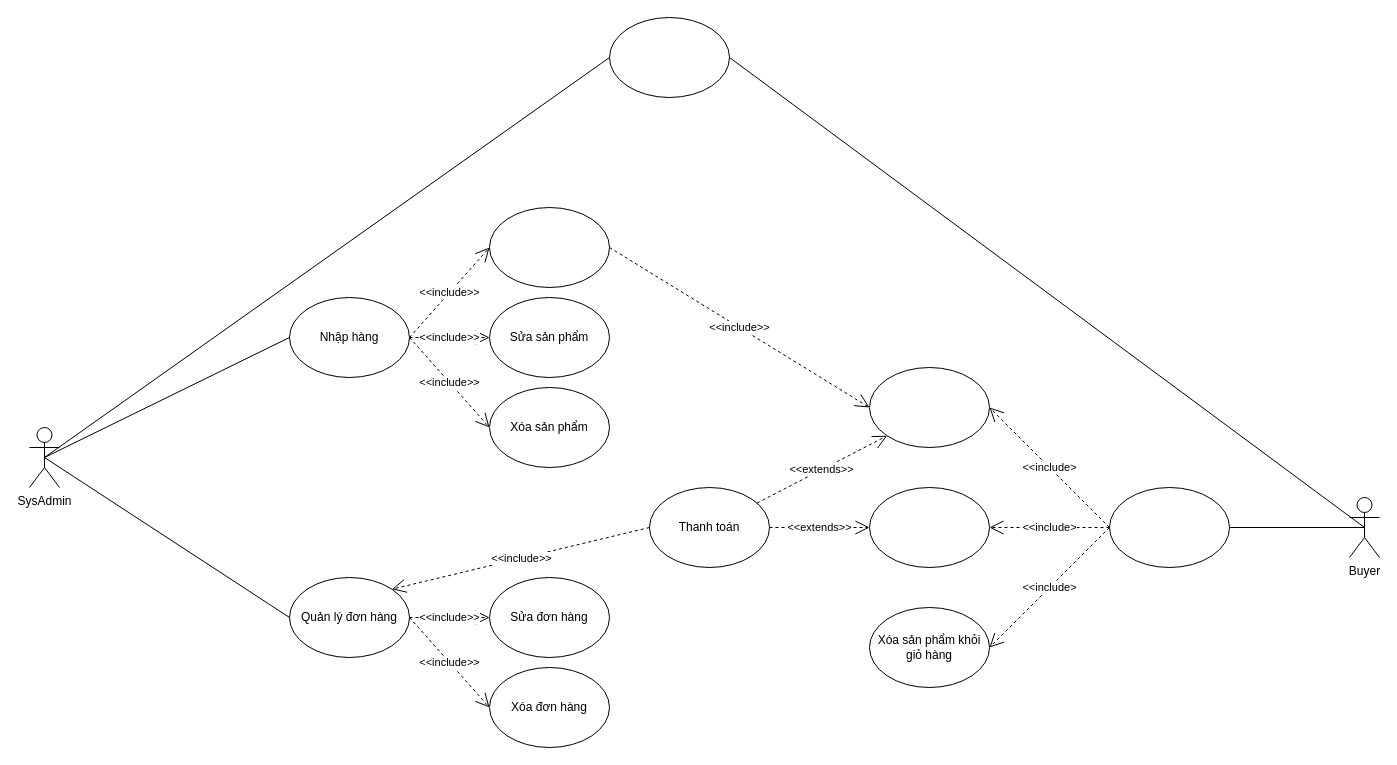
This 1397x765 diagram has some shape labels left out. Each missing label, with the centre of its shape:
"Cập nhật số lượng sản phẩm trong giỏ hàng" goes at (x=929, y=527).
"Mua hàng" goes at (x=1169, y=527).
"Thêm sản phẩm" goes at (x=549, y=247).
"Thêm sản phẩm vào giỏ hàng" goes at (x=929, y=407).
"Đăng nhập" goes at (x=669, y=57).
